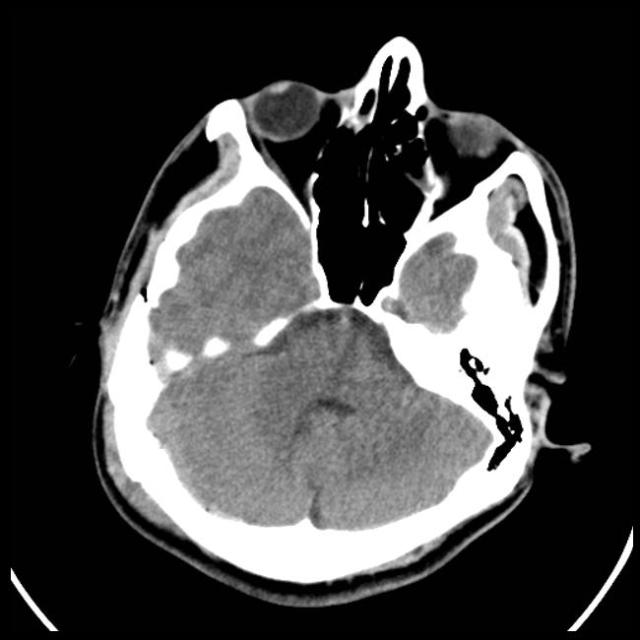lesion: (90, 34, 586, 602)
